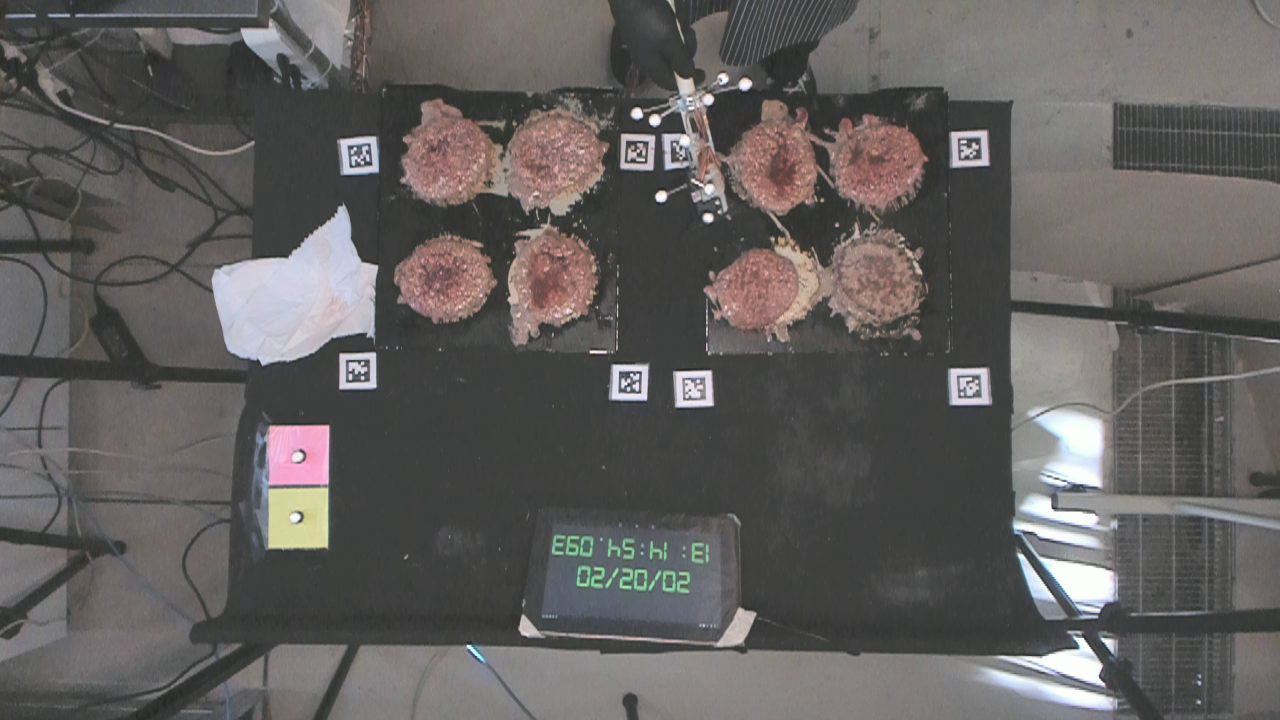hamburger: (393, 231, 492, 328), (401, 114, 493, 205), (507, 228, 598, 319), (511, 115, 606, 200), (733, 118, 818, 212), (827, 236, 921, 319), (835, 118, 925, 202), (711, 249, 803, 331)
marker: (268, 424, 329, 485)
